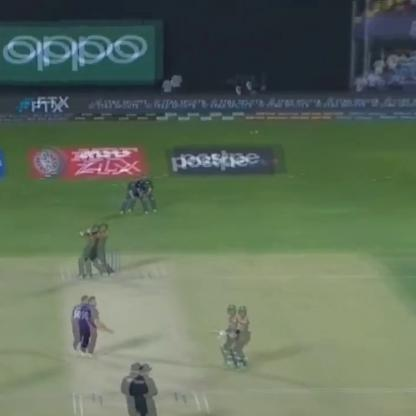ball: (252, 129, 260, 136), (248, 129, 254, 137)
pitch: (53, 257, 209, 416)
